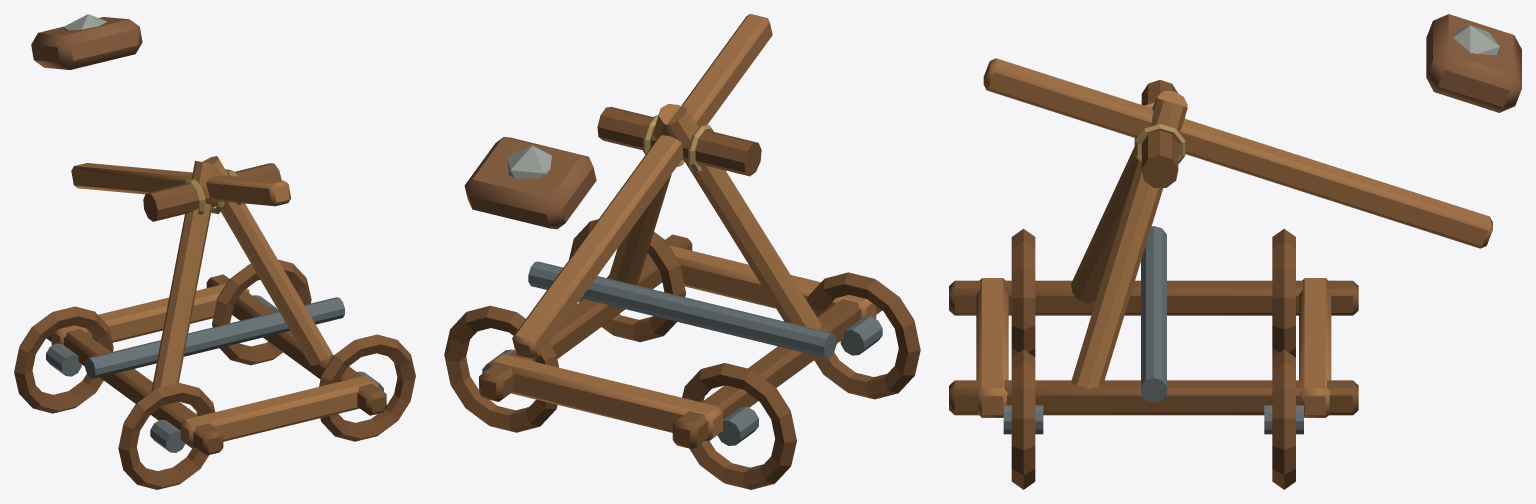
File: catapult_intact.glb
3 renders of one model, left to right at view 1: azimuth 30°, elevation 25°; view 2: azimuth 150°, elevation 25°; view 3: azimuth 270°, elevation 25°, orthographic. The views are drawn at different scales.
Visible parts, largest first — view 1: Catapult_CrossFront, Catapult_SupportL, Catapult_SupportR, Catapult_ThrowingArm, Catapult_Axle, Catapult_Wheel_2, Catapult_Wheel_1, Catapult_Wheel_0, Catapult_Bucket, Catapult_FrameLeft, Catapult_CrossRear, Catapult_FrameRight (+4 smaller); view 2: Catapult_ThrowingArm, Catapult_Bucket, Catapult_CrossRear, Catapult_Axle, Catapult_SupportL, Catapult_Wheel_2, Catapult_Wheel_0, Catapult_Wheel_3, Catapult_FrameLeft, Catapult_CrossFront, Catapult_TopBar, Catapult_FrameRight (+5 smaller); view 3: Catapult_ThrowingArm, Catapult_FrameRight, Catapult_FrameLeft, Catapult_SupportR, Catapult_Bucket, Catapult_Axle, Catapult_CrossFront, Catapult_CrossRear, Catapult_SupportL, Catapult_Wheel_1, Catapult_Wheel_3, Catapult_Wheel_0 (+4 smaller).
Boxes of the visible parts, x1,y1,x2,y2 form: Catapult_CrossFront: (180,375,378,448); Catapult_SupportL: (151,161,214,391); Catapult_SupportR: (203,156,332,365); Catapult_ThrowingArm: (71,163,290,206); Catapult_Axle: (85,297,344,378); Catapult_Wheel_2: (14,306,113,413); Catapult_Wheel_1: (319,334,415,441); Catapult_Wheel_0: (118,382,215,489); Catapult_Bucket: (31,17,142,69); Catapult_FrameLeft: (47,329,223,455); Catapult_CrossRear: (51,283,249,345); Catapult_FrameRight: (206,274,386,415); Catapult_ThrowingArm: (512,14,772,358); Catapult_Bucket: (464,137,596,229); Catapult_CrossRear: (488,354,722,441); Catapult_Axle: (528,261,836,358); Catapult_SupportL: (667,106,821,329); Catapult_Wheel_2: (682,363,796,489); Catapult_Wheel_0: (807,272,920,399); Catapult_Wheel_3: (444,305,558,432); Catapult_FrameLeft: (672,299,881,449); Catapult_CrossFront: (668,245,876,318); Catapult_TopBar: (597,107,761,176); Catapult_FrameRight: (479,234,692,401); Catapult_ThrowingArm: (983,58,1492,248); Catapult_FrameRight: (949,380,1358,415); Catapult_FrameLeft: (949,280,1358,315); Catapult_SupportR: (1071,98,1187,388); Catapult_Bucket: (1426,14,1521,112); Catapult_Axle: (1141,226,1166,402); Catapult_CrossFront: (976,278,1008,417); Catapult_CrossRear: (1299,278,1331,417); Catapult_SupportL: (1071,91,1187,303); Catapult_Wheel_1: (1011,349,1035,489); Catapult_Wheel_3: (1272,349,1295,489); Catapult_Wheel_0: (1011,228,1035,357).
Size of the model in its own units: 3.46 by 3.54 by 4.61.
